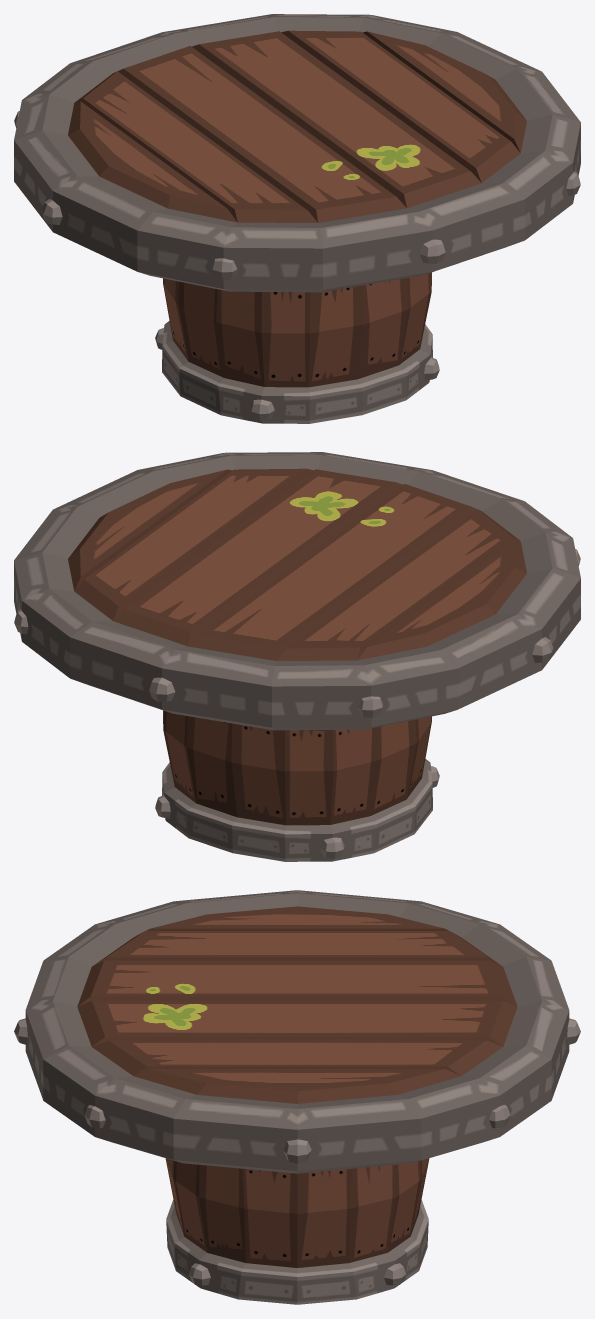
File: table.fbx
3 renders of one model, top to bottom at view 1: azimuth 30°, elevation 25°; view 2: azimuth 150°, elevation 25°; view 3: azimuth 270°, elevation 25°, orthographic.
Visible parts, largest first — view 1: Table; view 2: Table; view 3: Table.
Boxes of the visible parts, x1,y1,x2,y2 form: Table: (14,14,580,423); Table: (14,452,580,861); Table: (14,890,580,1304).
Size of the model in its own units: 698 by 331 by 672.
